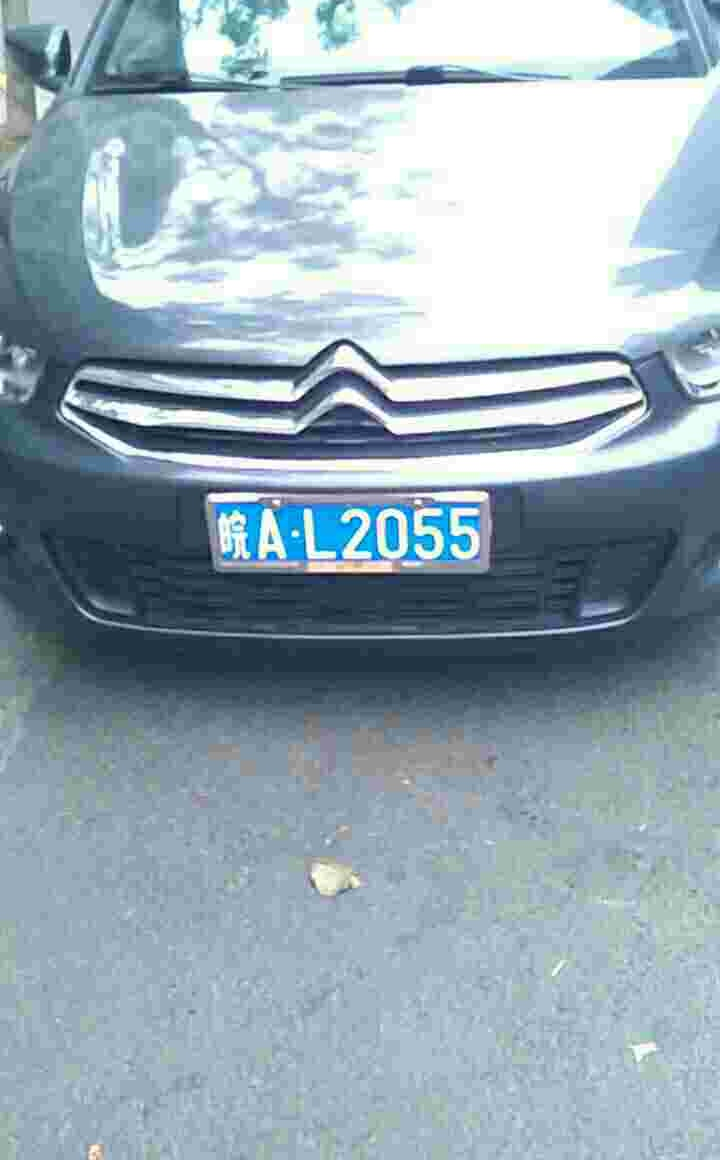plate: (210, 494, 497, 574)
